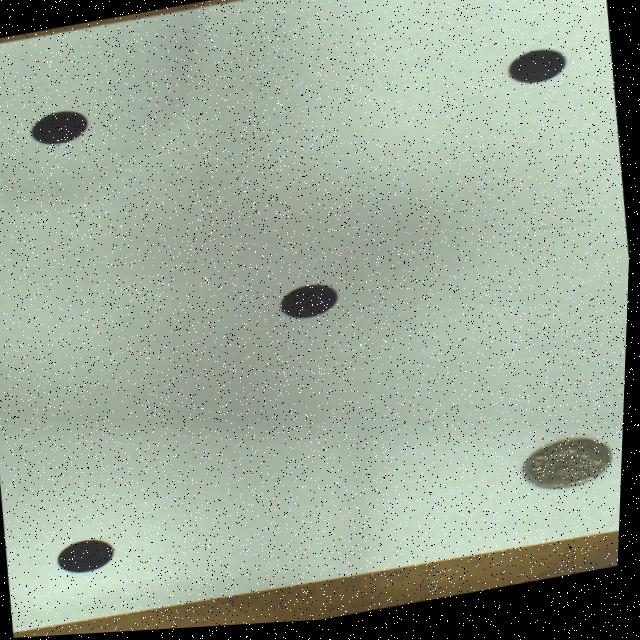space: (282, 287, 341, 321), (31, 110, 88, 144), (62, 539, 119, 573), (510, 55, 567, 88)
tail5bath: (526, 443, 614, 495)
